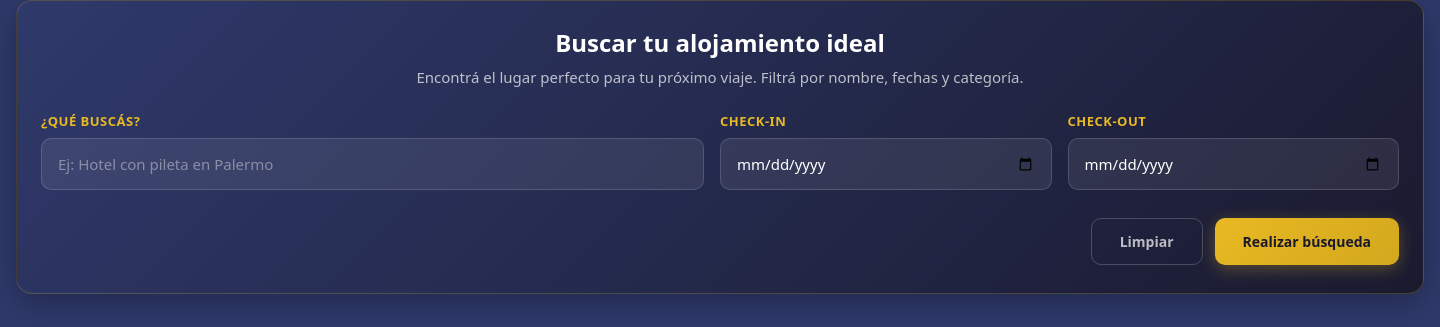
Test: SearchBlock › limpiar resetea campos y recarga productos
The image size is (1440, 327).
In the field labelled "¿Qué buscás?": (372, 164) [41,138,704,190], type "Palermo"
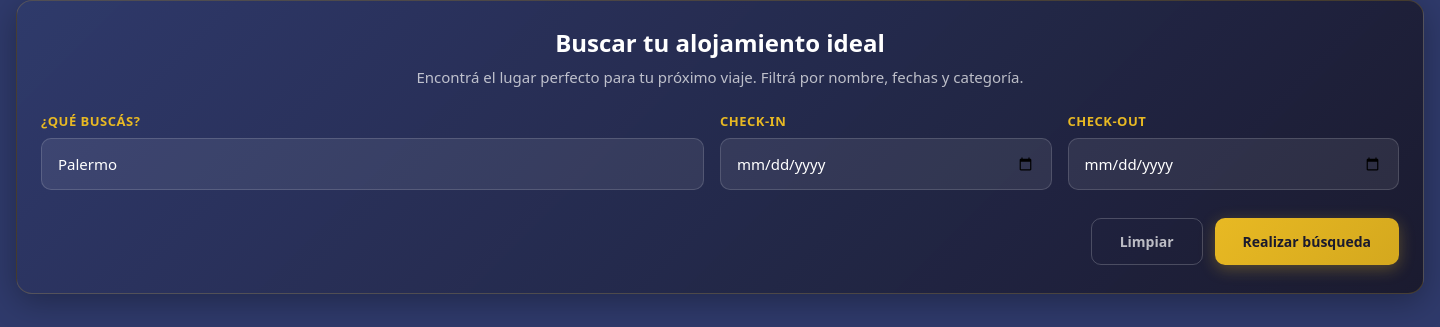
Click the button "Limpiar": (1147, 242) [1091,218,1203,265]
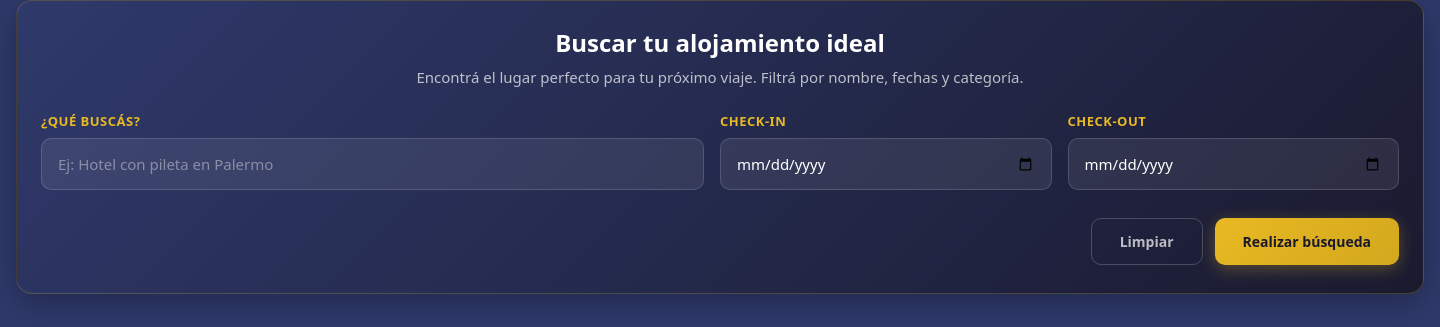
Expected: the field labelled "¿Qué buscás?" is empty, [41,138,704,190]
